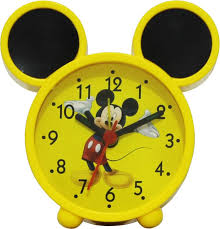alarm_clock: (4, 0, 216, 228)
